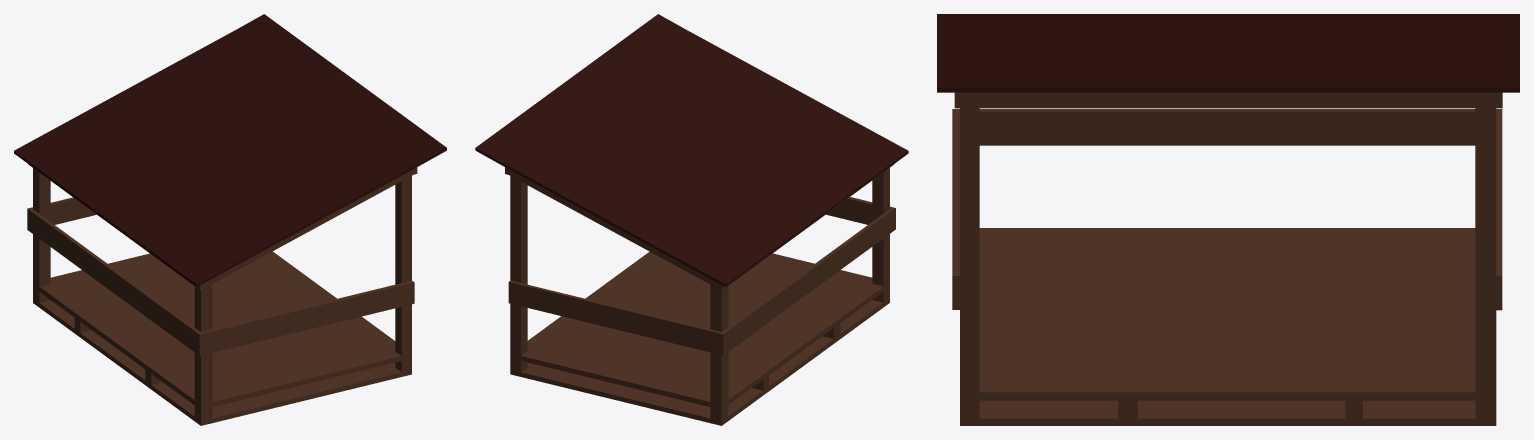
File: Shed half.fbx
The picture shows the model from 3 angles, left to right: view 1: azimuth 30°, elevation 25°; view 2: azimuth 150°, elevation 25°; view 3: azimuth 270°, elevation 25°; orthographic projection. The views are drawn at different scales.
Parts seen in each view (by area): view 1: Cube; view 2: Cube; view 3: Cube.
Part boxes in pixels (left/top/right/bottom): Cube: left=14, top=14, right=446, bottom=425; Cube: left=475, top=14, right=908, bottom=425; Cube: left=937, top=14, right=1519, bottom=425.
Size of the model in its own units: 357 by 307 by 451.
